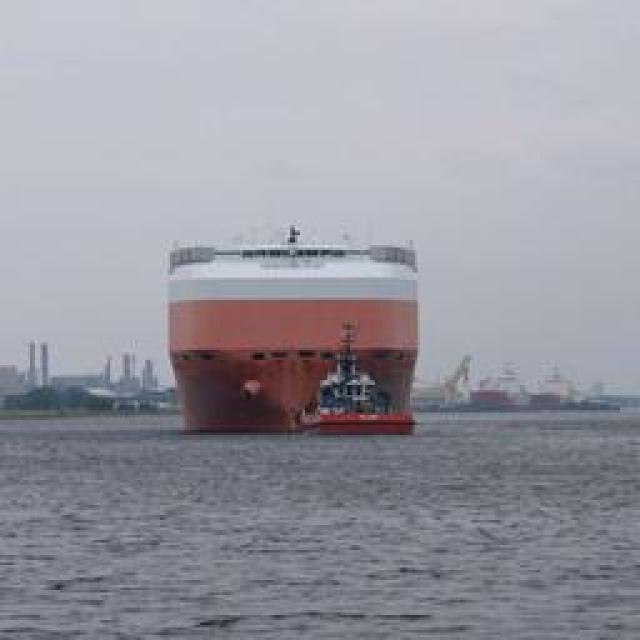CIV_Ship: (164, 235, 424, 438)
